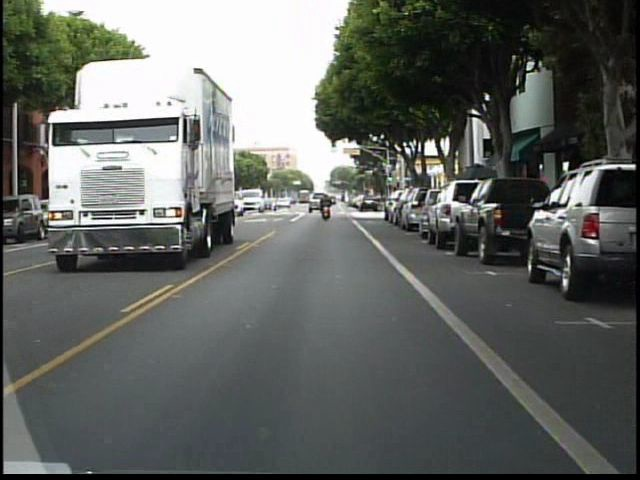person: (321, 192, 335, 223)
